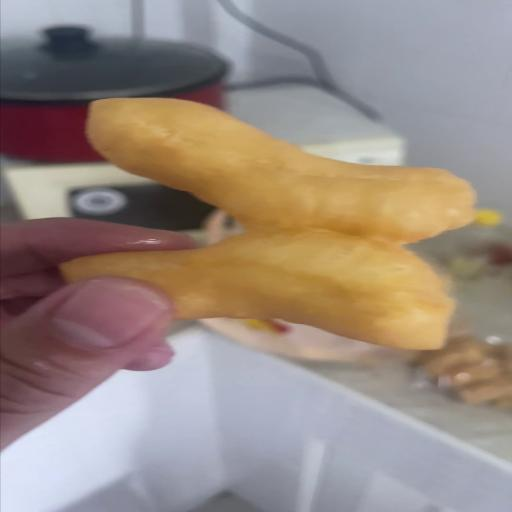street_golden_good: (61, 99, 472, 350)
